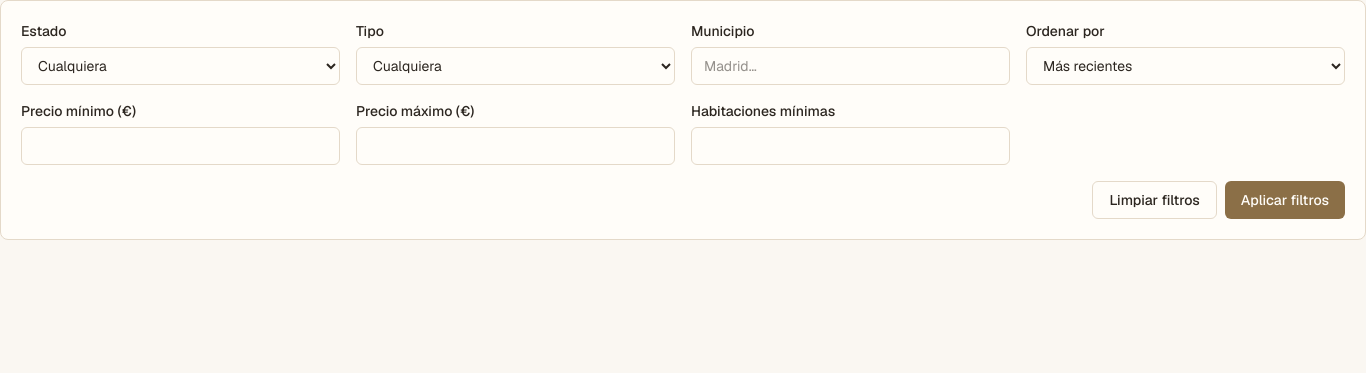
Test: BarraFiltros › ante_un_rango_de_precio_invertido_no_navega_y_muestra_el_aviso
In the number field labelled "Precio mínimo (€)": (180,146) 21,127 -> 340,165, type "300000"
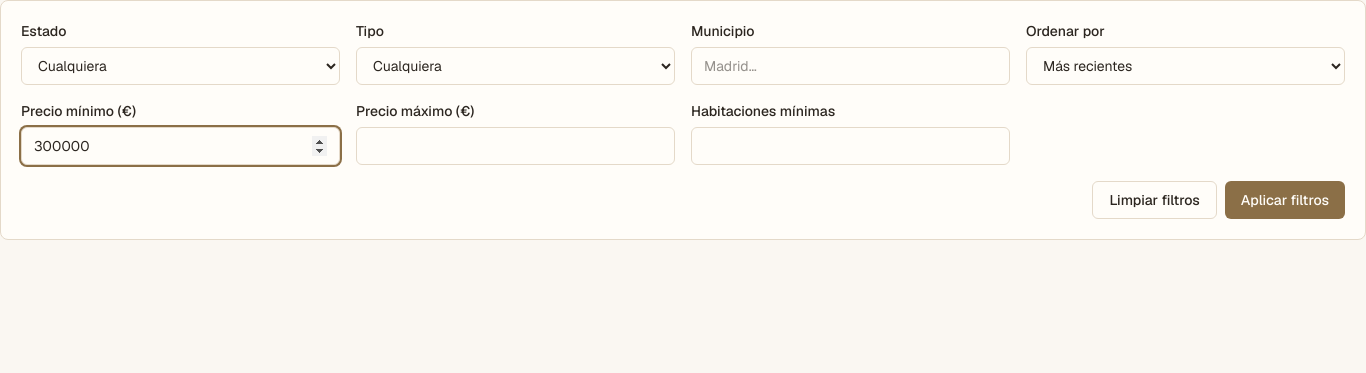
In the number field labelled "Precio máximo (€)": (516,146) 356,127 -> 675,165, type "100000"
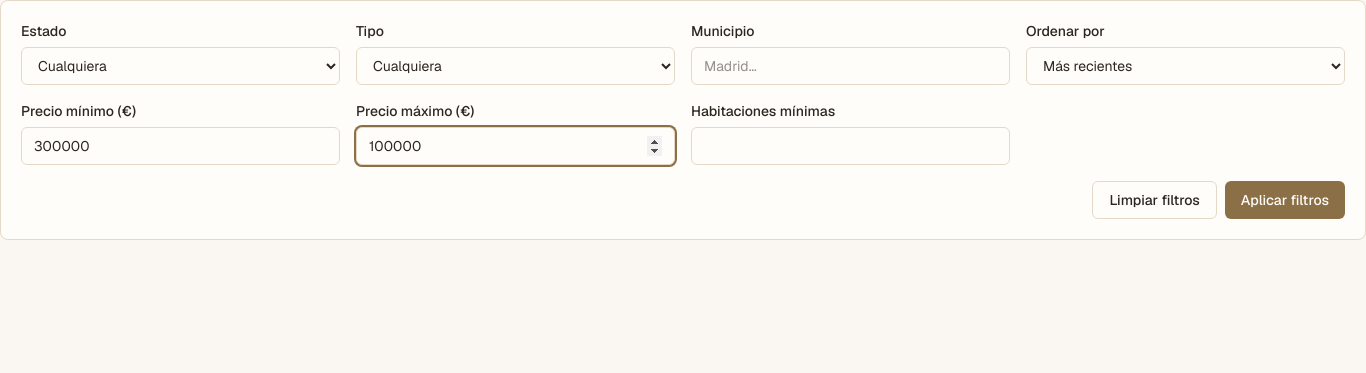
Click the button "Aplicar filtros": (1285,200) 1225,181 -> 1345,219
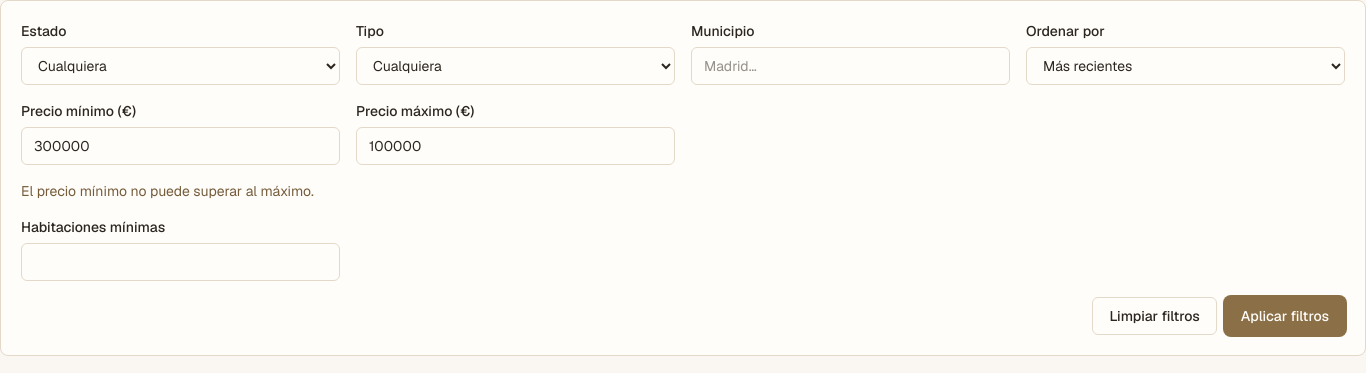
Expected: the message reads "El precio mínimo no puede superar al máximo.", 21,182 -> 314,200
